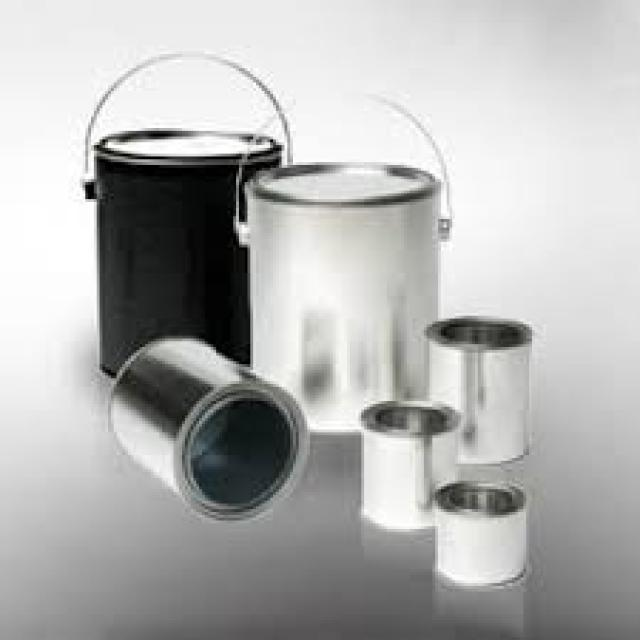metal: (245, 157, 435, 433), (91, 128, 279, 384), (103, 330, 305, 526), (424, 316, 529, 464), (356, 398, 458, 529), (433, 478, 527, 583)
